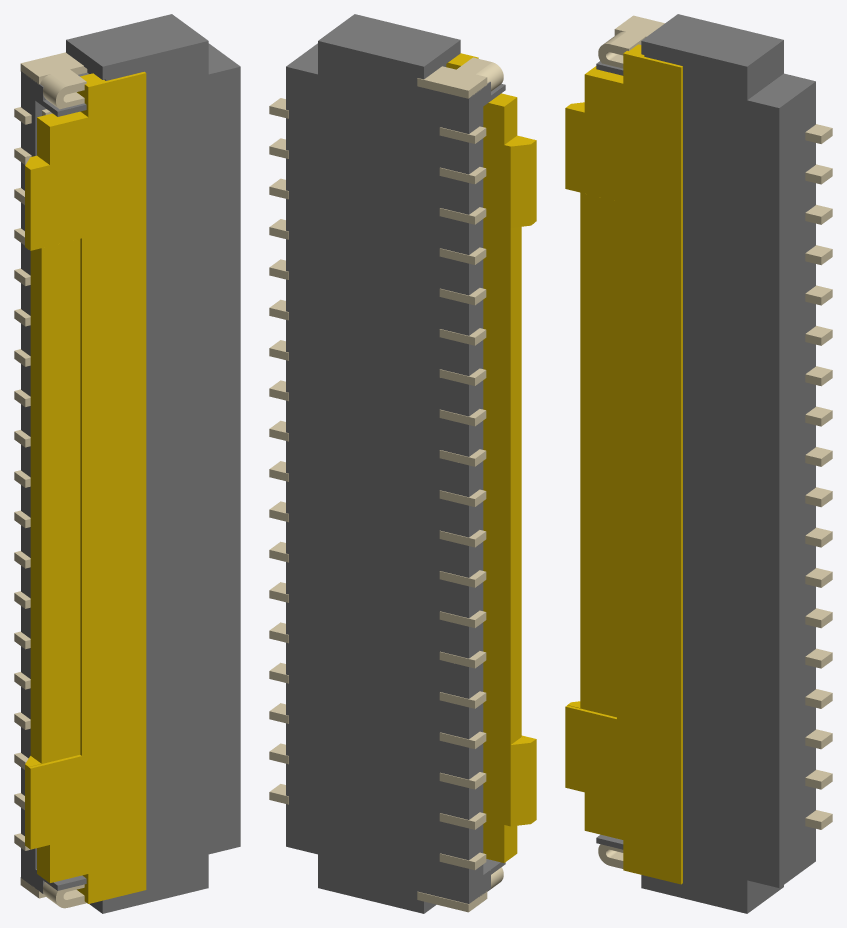
Rendered from Hirose_FH26-37S-0.3SHW_2Rows-37Pins-1MP_P0.60mm_Horizontal.glb.
The picture shows the model from 3 angles, left to right: view 1: azimuth 30°, elevation 25°; view 2: azimuth 150°, elevation 25°; view 3: azimuth 330°, elevation 25°; orthographic projection.
Visible parts, largest first — view 1: Shape_IndexedFaceSet.004, Shape_IndexedFaceSet.031, Shape_IndexedFaceSet.034, Shape_IndexedFaceSet.049, Shape_IndexedFaceSet.014, Shape_IndexedFaceSet.001, Shape_IndexedFaceSet.312, Shape_IndexedFaceSet.042, Shape_IndexedFaceSet.002, Shape_IndexedFaceSet.005, Shape_IndexedFaceSet.046, Shape_IndexedFaceSet.029 (+1 smaller); view 2: Shape_IndexedFaceSet.003, Shape_IndexedFaceSet.032, Shape_IndexedFaceSet.014, Shape_IndexedFaceSet.049, Shape_IndexedFaceSet.001, Shape_IndexedFaceSet.030, Shape_IndexedFaceSet.050, Shape_IndexedFaceSet.312; view 3: Shape_IndexedFaceSet.004, Shape_IndexedFaceSet.031, Shape_IndexedFaceSet.006, Shape_IndexedFaceSet.034, Shape_IndexedFaceSet.001, Shape_IndexedFaceSet.038, Shape_IndexedFaceSet, Shape_IndexedFaceSet.002, Shape_IndexedFaceSet.312, Shape_IndexedFaceSet.008.
Boxes of the visible parts, x1=… form: Shape_IndexedFaceSet.004: x1=57, y1=41, x2=240, y2=913; Shape_IndexedFaceSet.031: x1=30, y1=73, x2=146, y2=903; Shape_IndexedFaceSet.034: x1=29, y1=239, x2=80, y2=766; Shape_IndexedFaceSet.049: x1=30, y1=248, x2=41, y2=763; Shape_IndexedFaceSet.014: x1=21, y1=71, x2=57, y2=893; Shape_IndexedFaceSet.001: x1=66, y1=14, x2=208, y2=66; Shape_IndexedFaceSet.312: x1=21, y1=52, x2=86, y2=86; Shape_IndexedFaceSet.042: x1=80, y1=238, x2=81, y2=755; Shape_IndexedFaceSet.002: x1=208, y1=43, x2=240, y2=74; Shape_IndexedFaceSet.005: x1=66, y1=40, x2=102, y2=79; Shape_IndexedFaceSet.046: x1=37, y1=117, x2=49, y2=164; Shape_IndexedFaceSet.029: x1=25, y1=764, x2=30, y2=849; Shape_IndexedFaceSet.003: x1=286, y1=41, x2=468, y2=913; Shape_IndexedFaceSet.032: x1=446, y1=63, x2=510, y2=862; Shape_IndexedFaceSet.014: x1=469, y1=82, x2=505, y2=903; Shape_IndexedFaceSet.049: x1=510, y1=226, x2=521, y2=744; Shape_IndexedFaceSet.001: x1=318, y1=14, x2=460, y2=66; Shape_IndexedFaceSet.030: x1=510, y1=743, x2=530, y2=826; Shape_IndexedFaceSet.050: x1=510, y1=144, x2=530, y2=227; Shape_IndexedFaceSet.312: x1=417, y1=57, x2=491, y2=90; Shape_IndexedFaceSet.004: x1=596, y1=41, x2=779, y2=913; Shape_IndexedFaceSet.031: x1=565, y1=53, x2=680, y2=884; Shape_IndexedFaceSet.006: x1=779, y1=81, x2=815, y2=887; Shape_IndexedFaceSet.034: x1=567, y1=192, x2=616, y2=717; Shape_IndexedFaceSet.001: x1=641, y1=14, x2=783, y2=66; Shape_IndexedFaceSet.038: x1=681, y1=66, x2=682, y2=884; Shape_IndexedFaceSet: x1=747, y1=40, x2=783, y2=99; Shape_IndexedFaceSet.002: x1=747, y1=73, x2=815, y2=107; Shape_IndexedFaceSet.312: x1=610, y1=15, x2=664, y2=48; Shape_IndexedFaceSet.008: x1=747, y1=880, x2=783, y2=913.
Size of the model in its own units: 1.4 by 4.96 by 0.4134.
